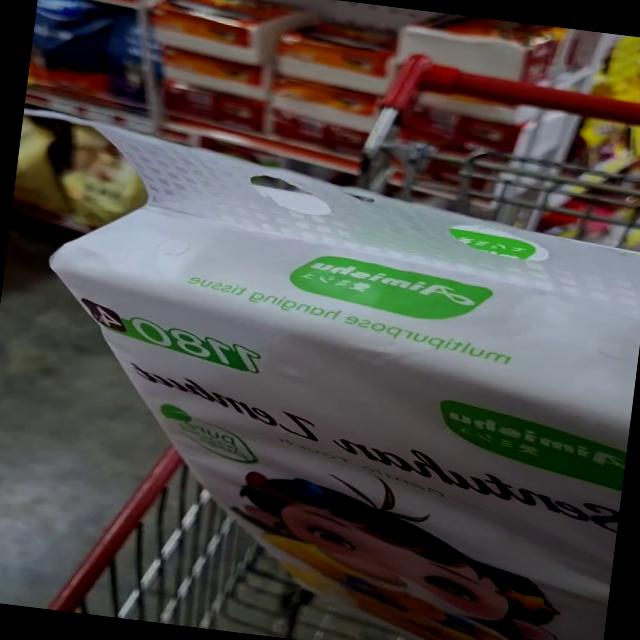Tisu: (17, 145, 640, 528), (151, 361, 631, 640)
